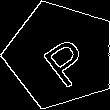P_NW: (29, 23, 92, 87)
